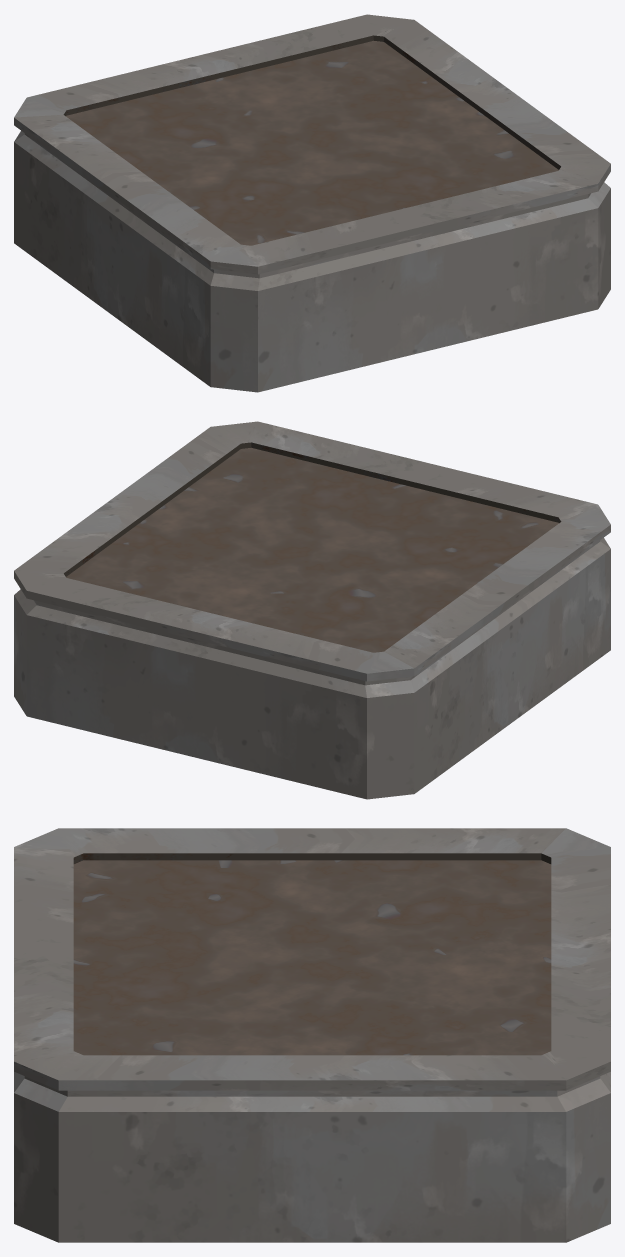
Rendered from Prop_Planter_Single.gltf.
3 renders of one model, top to bottom at view 1: azimuth 30°, elevation 25°; view 2: azimuth 150°, elevation 25°; view 3: azimuth 270°, elevation 25°, orthographic. The views are drawn at different scales.
Parts seen in each view (by area): view 1: Prop_Planter_Single; view 2: Prop_Planter_Single; view 3: Prop_Planter_Single.
Boxes of the visible parts, x1=… form: Prop_Planter_Single: x1=14, y1=14, x2=610, y2=392; Prop_Planter_Single: x1=14, y1=421, x2=610, y2=799; Prop_Planter_Single: x1=14, y1=828, x2=610, y2=1242.
Size of the model in its own units: 2 by 0.6 by 2.
2 materials, 2 textured.
